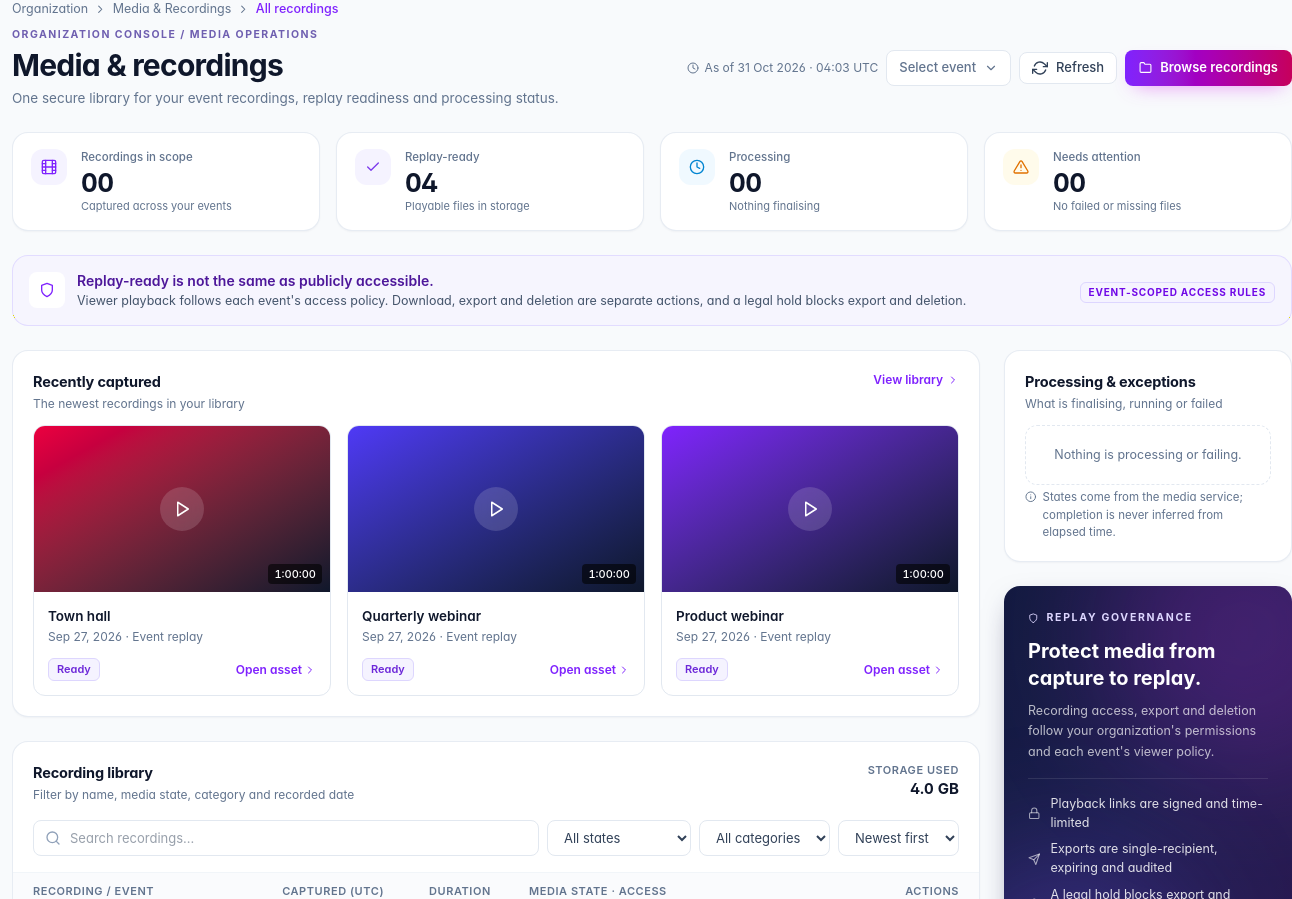
it: filtering › combines with search, and says so when nothing matches both
Select "Company" in the dropdown named "Filter by category" at [764, 838], box x1=699 y1=820 x2=830 y2=856
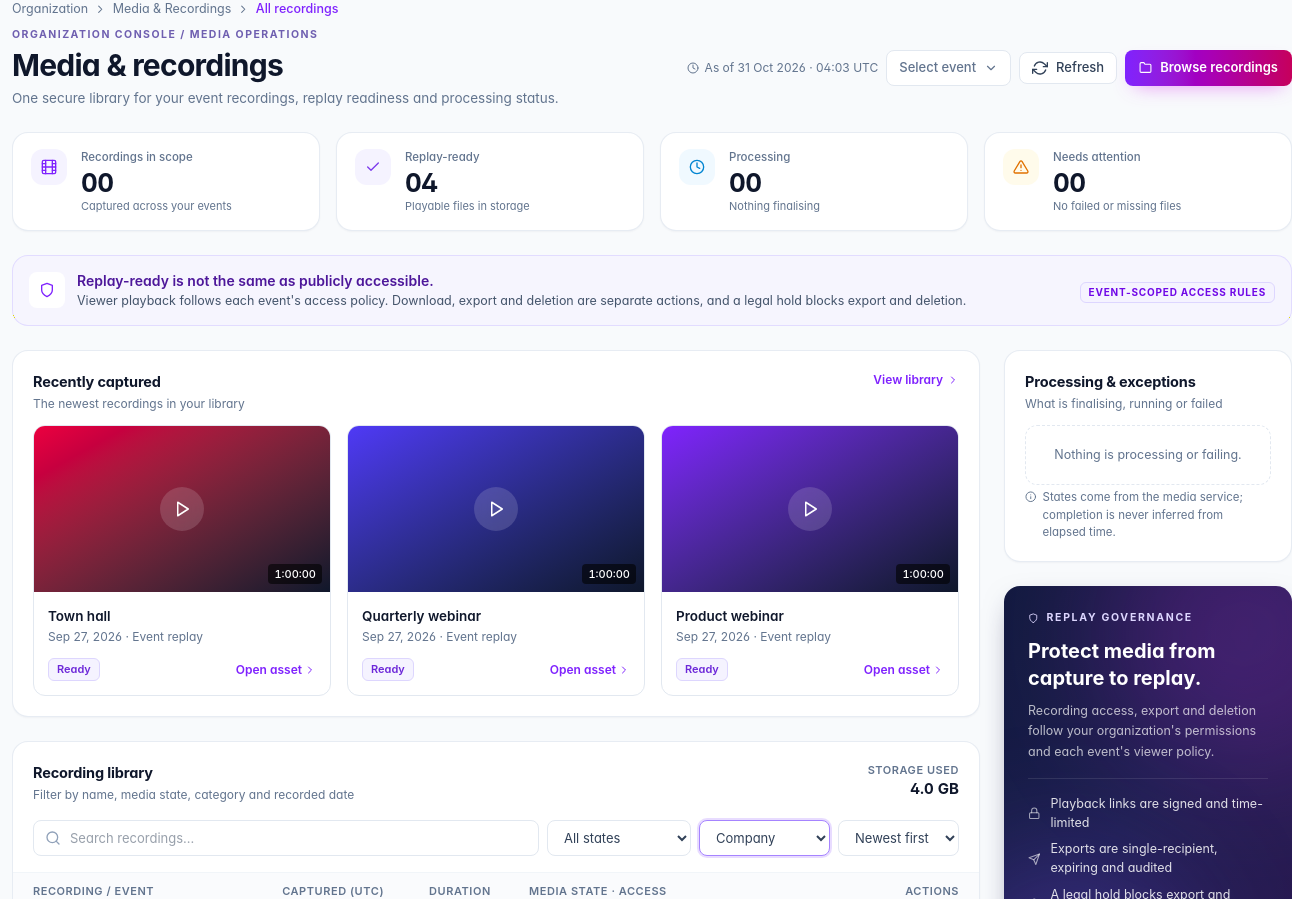
Type "all-hands" into the search field with placeholder "Search recordings..." at [286, 838], box x1=33 y1=820 x2=539 y2=856
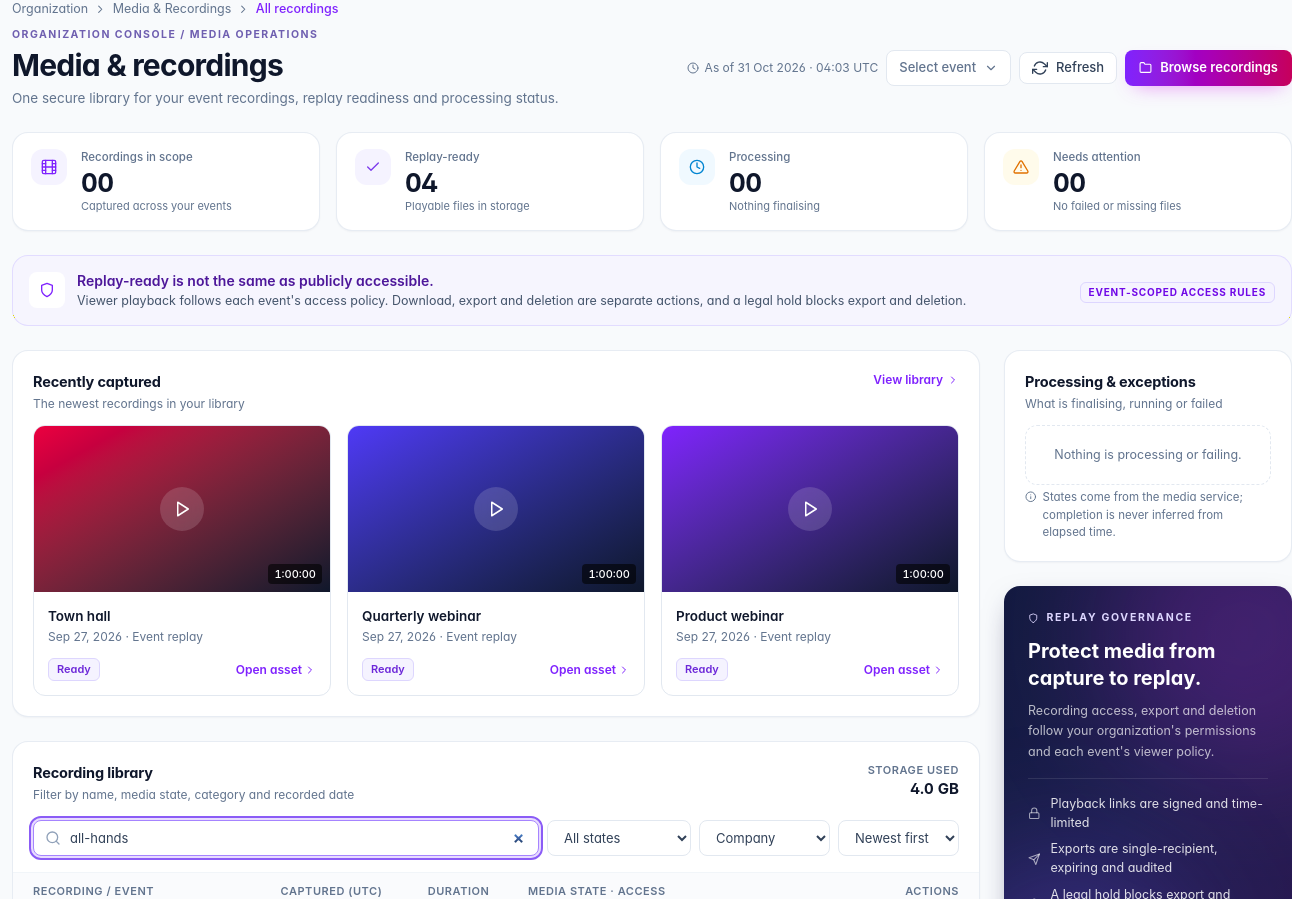
Replace the text in the search field with placeholder "Search recordings..." with "webinar" at [286, 838], box x1=33 y1=820 x2=539 y2=856
(page scrolled)
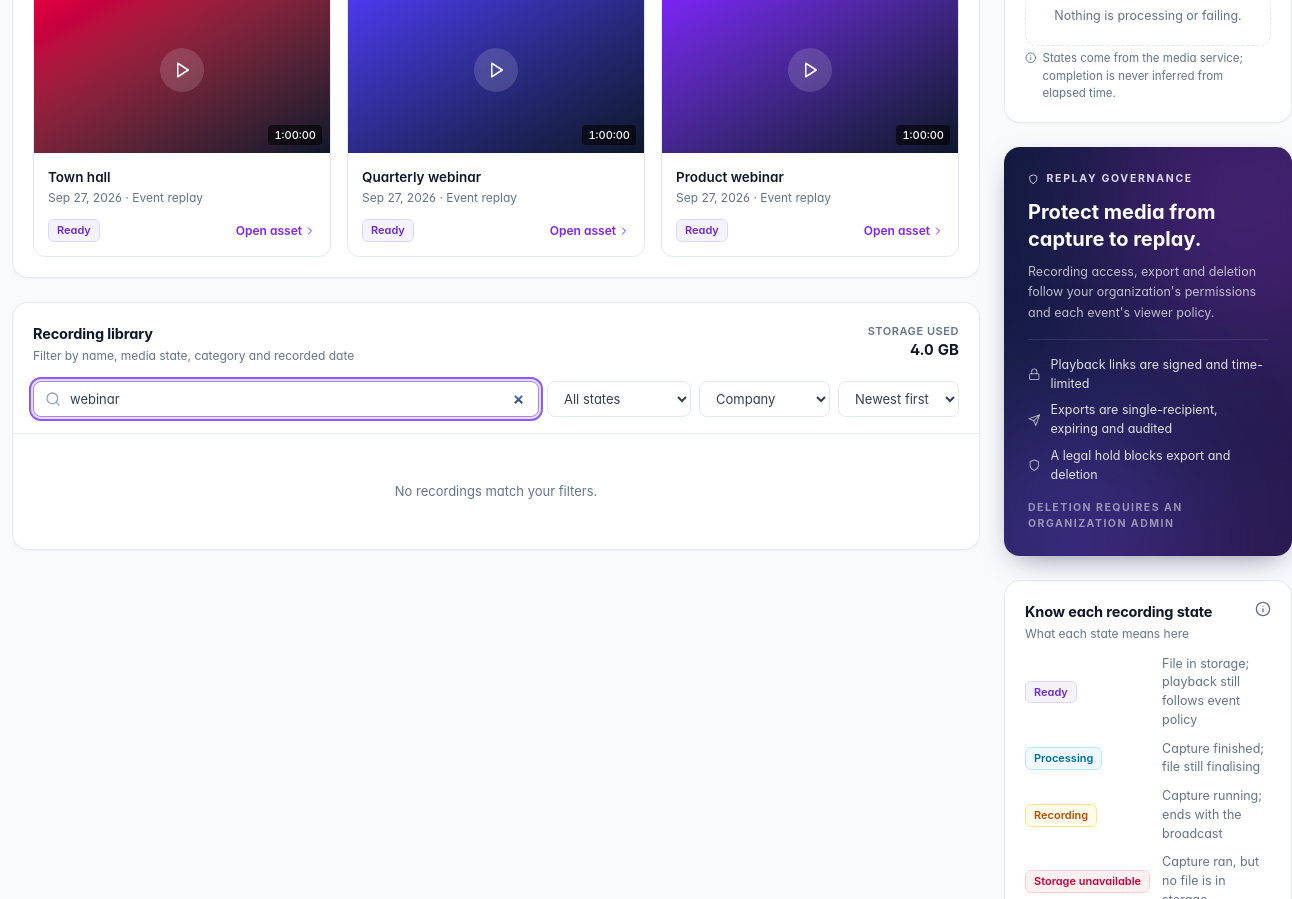
Check: the text "No recordings match your filters." is shown, box x1=13 y1=433 x2=979 y2=549
